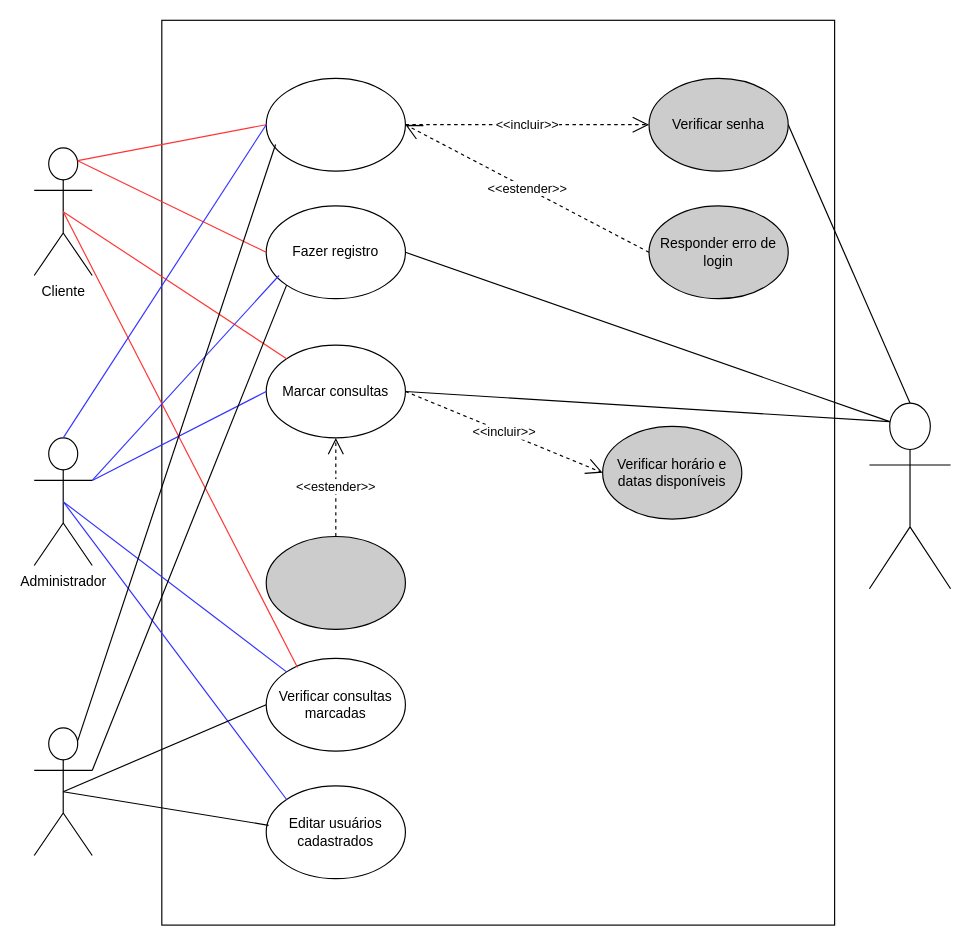
Image size: 980x945. Some labels were removed from this diagram. The shapes that lost their labels are listed below. From the top down, each one's box as (x1, y1, x2, y2) in pixels, then its label:
(265, 77, 405, 171): Fazer login
(868, 402, 951, 589): Banco de dados
(265, 535, 405, 629): Responder por datas e horários
(33, 727, 92, 855): Médico
